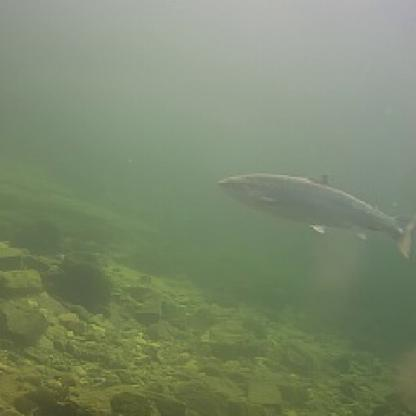salmon: (212, 163, 414, 260)
